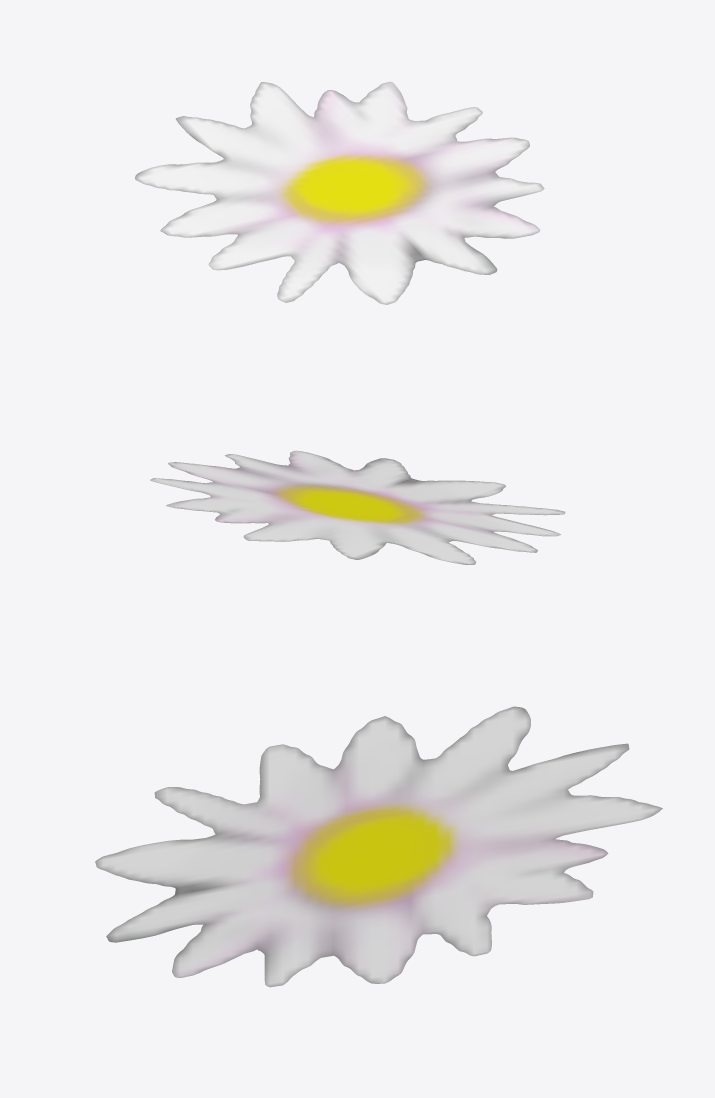
Rendered from Flower_Daisy.fbx.
The picture shows the model from 3 angles, top to bottom: view 1: azimuth 30°, elevation 25°; view 2: azimuth 150°, elevation 25°; view 3: azimuth 270°, elevation 25°; orthographic projection. The views are drawn at different scales.
Parts seen in each view (by area): view 1: Flower_Daisy; view 2: Flower_Daisy; view 3: Flower_Daisy.
Boxes of the visible parts, bbox=[...] form: Flower_Daisy: bbox=[135, 81, 544, 304]; Flower_Daisy: bbox=[150, 450, 565, 564]; Flower_Daisy: bbox=[95, 706, 662, 987].
Size of the model in its own units: 28.47 by 4.87 by 24.98.
